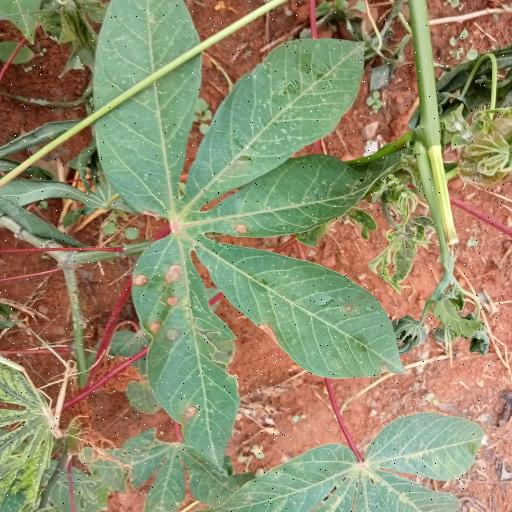Cassava_Brown_Leaf_Spot: (83, 0, 417, 478)
